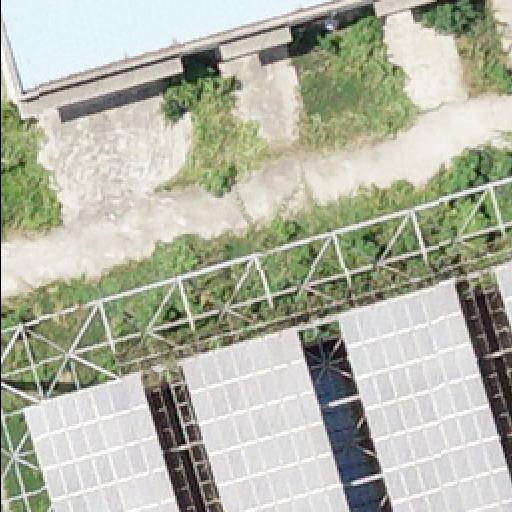solar-panel: (336, 280, 512, 512), (179, 328, 349, 512), (25, 369, 183, 511), (492, 262, 512, 334)
